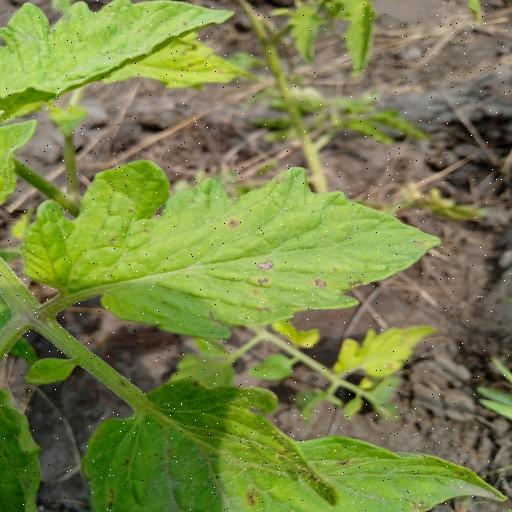Tomato_Brown_Spots: (7, 164, 443, 340), (79, 378, 509, 512)
